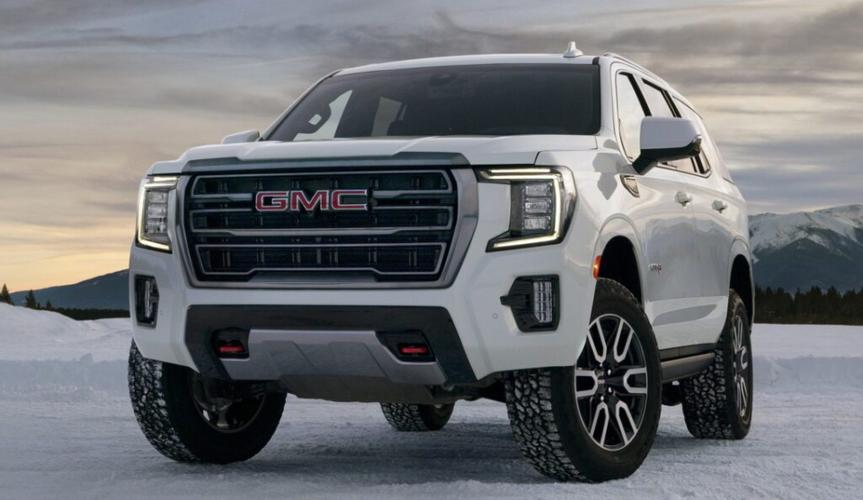汽车: (115, 35, 763, 485)
